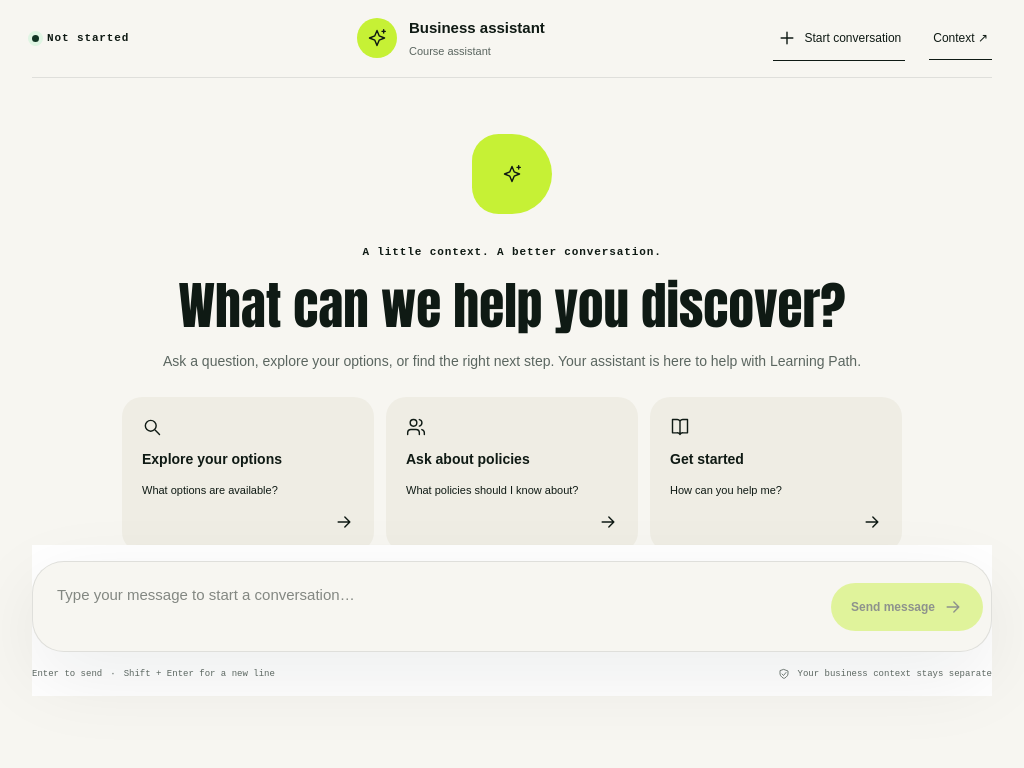
Test: chat displays supplied policy sources and the failed operation without a success badge
This screenshot has width=1024, height=768.
Type "Explain my request" into the text box labelled "message" at (428, 606), box left=41, top=570, right=815, bottom=643
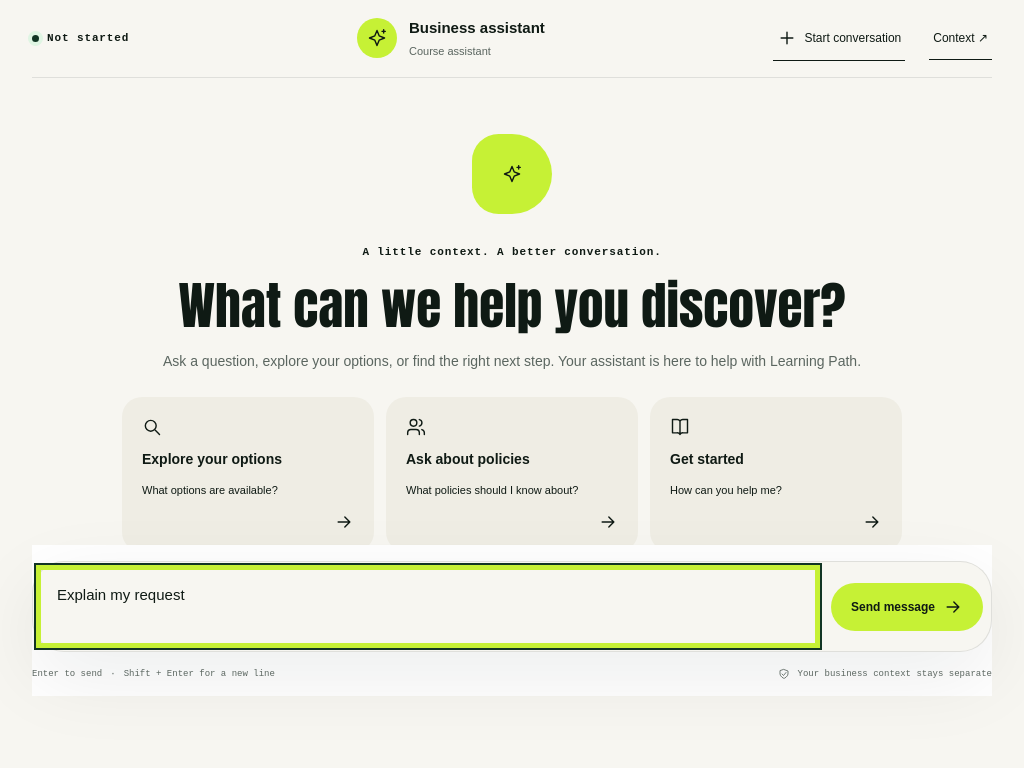
Click the button "Send message" at (907, 606), box left=831, top=582, right=983, bottom=630
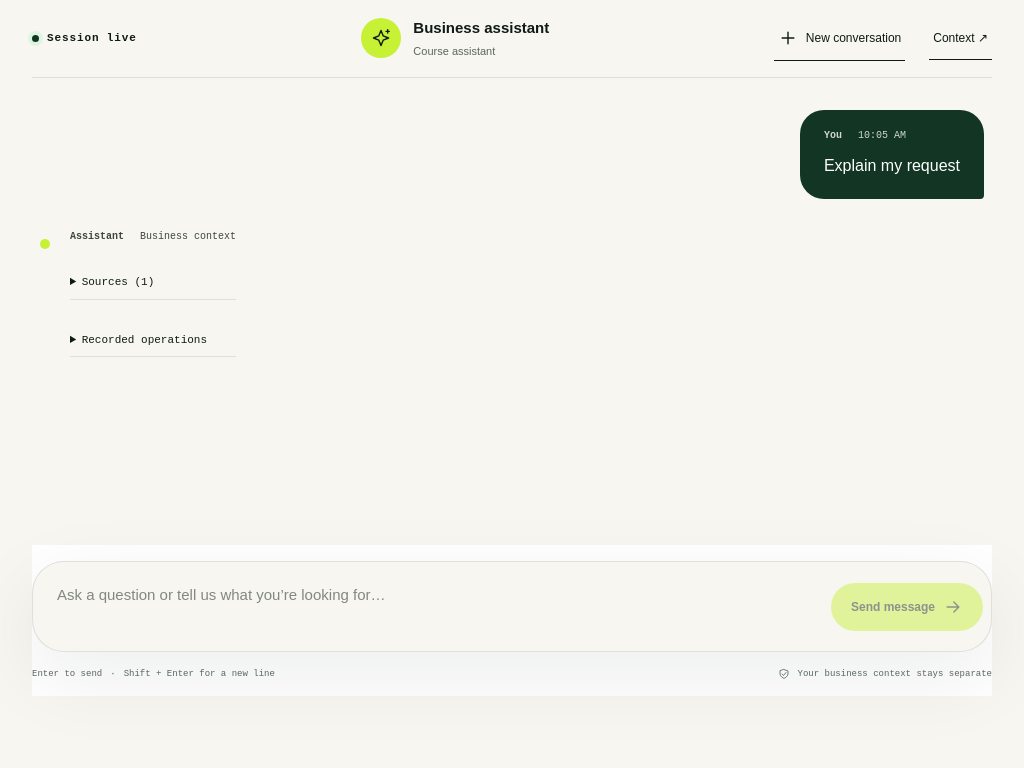
Click the heading "Sources (1)" at (153, 283), box left=70, top=266, right=236, bottom=300
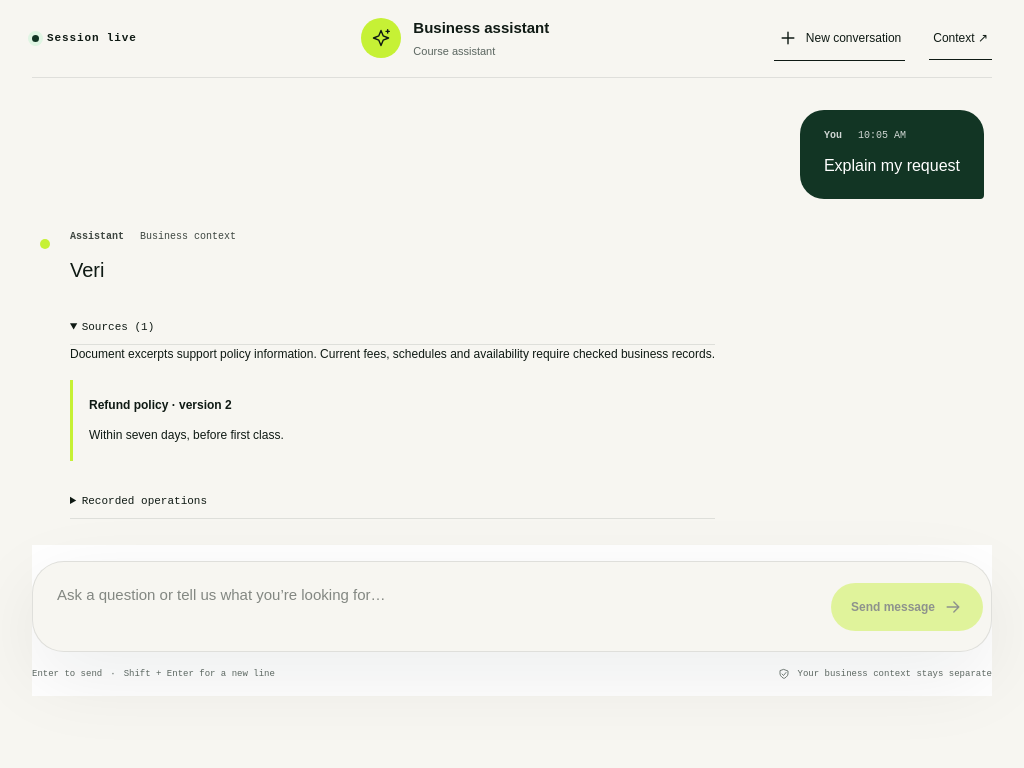
expect the text "Within seven days, before first class." is shown: met, box left=89, top=428, right=284, bottom=442
Click the heading "Recorded operations" at (144, 501), box left=70, top=485, right=715, bottom=519
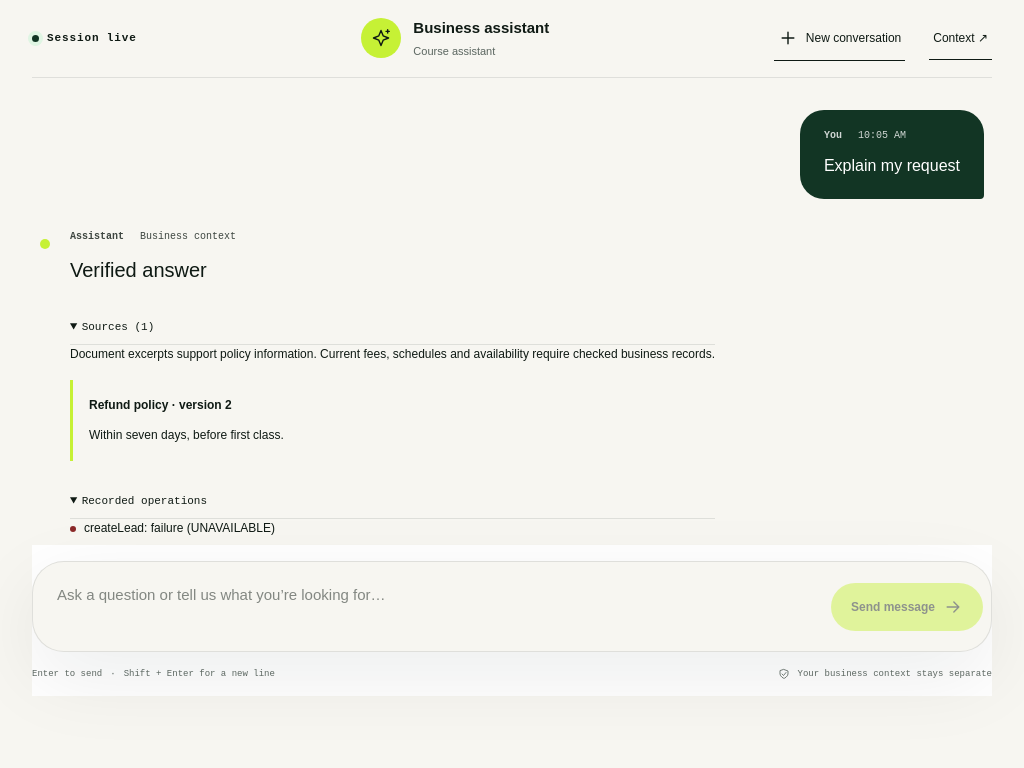
expect the text "createLead: failure (UNAVAILABLE)" is shown: met, box left=70, top=521, right=275, bottom=535
